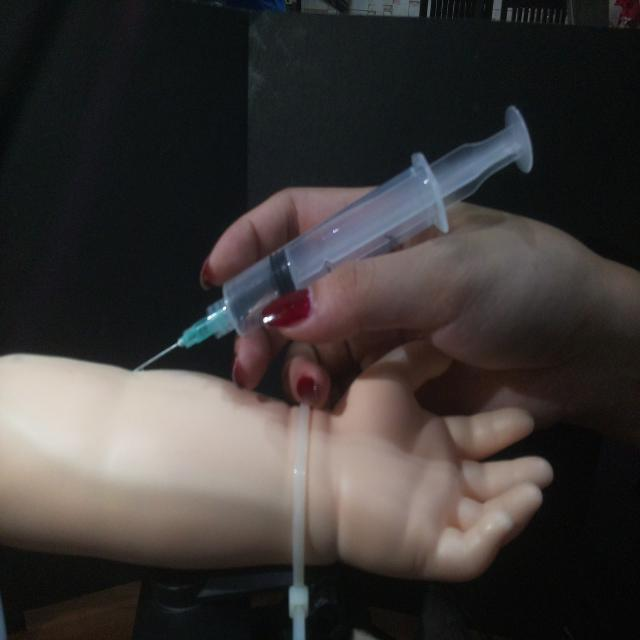28deg: (129, 100, 538, 374)
